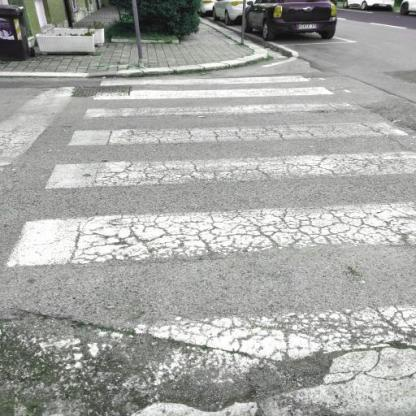crosswalk: (2, 149, 416, 278), (78, 85, 361, 125)
